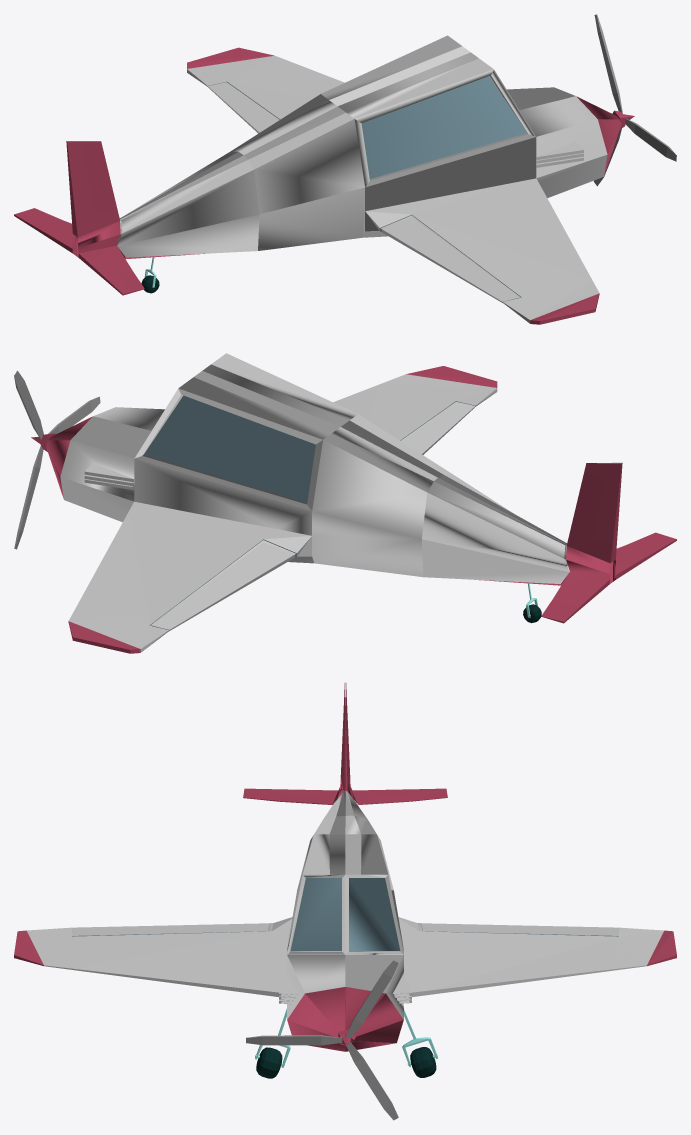
File: FH_AircarftModel.fbx
3 renders of one model, top to bottom at view 1: azimuth 30°, elevation 25°; view 2: azimuth 150°, elevation 25°; view 3: azimuth 270°, elevation 25°, orthographic. The views are drawn at different scales.
Visible parts, largest first — view 1: Cube_3, Wing_Right, Plane, Wing_Left, Flap, Flap001, Cube_1, Cube_0; view 2: Cube_3, Wing_Left, Plane, Wing_Right, Flap001, Flap, Cube_1, Cube_2, Cube_0; view 3: Cube_3, Wing_Right, Wing_Left, Plane, Flap001, Flap, Cube_0, Cube_1, Cube_2, Wheel_4, Wheel_2.
Part boxes in pixels (x1=…): Cube_3: x1=72, y1=35, x2=621, y2=259; Wing_Right: x1=365, y1=178, x2=599, y2=324; Plane: x1=14, y1=141, x2=144, y2=295; Wing_Left: x1=187, y1=47, x2=344, y2=120; Flap: x1=381, y1=217, x2=519, y2=302; Flap001: x1=208, y1=82, x2=278, y2=133; Cube_1: x1=594, y1=14, x2=622, y2=113; Cube_0: x1=625, y1=118, x2=676, y2=161; Cube_3: x1=46, y1=353, x2=616, y2=585; Wing_Left: x1=68, y1=501, x2=311, y2=653; Plane: x1=541, y1=462, x2=676, y2=623; Wing_Right: x1=333, y1=366, x2=497, y2=441; Flap001: x1=151, y1=542, x2=294, y2=631; Flap: x1=402, y1=402, x2=475, y2=454; Cube_1: x1=14, y1=370, x2=43, y2=440; Cube_2: x1=14, y1=445, x2=43, y2=549; Cube_0: x1=48, y1=396, x2=100, y2=434; Cube_3: x1=287, y1=777, x2=403, y2=1051; Wing_Right: x1=14, y1=917, x2=292, y2=996; Wing_Left: x1=398, y1=917, x2=676, y2=996; Plane: x1=243, y1=682, x2=447, y2=804; Flap001: x1=421, y1=923, x2=618, y2=935; Flap: x1=72, y1=923, x2=269, y2=935; Cube_0: x1=246, y1=1035, x2=342, y2=1045; Cube_1: x1=345, y1=960, x2=398, y2=1038; Cube_2: x1=346, y1=1042, x2=398, y2=1120; Wheel_4: x1=256, y1=1047, x2=282, y2=1078; Wheel_2: x1=410, y1=1047, x2=436, y2=1077.
Bounding box in the file's own units: 799 × 285 × 869.
